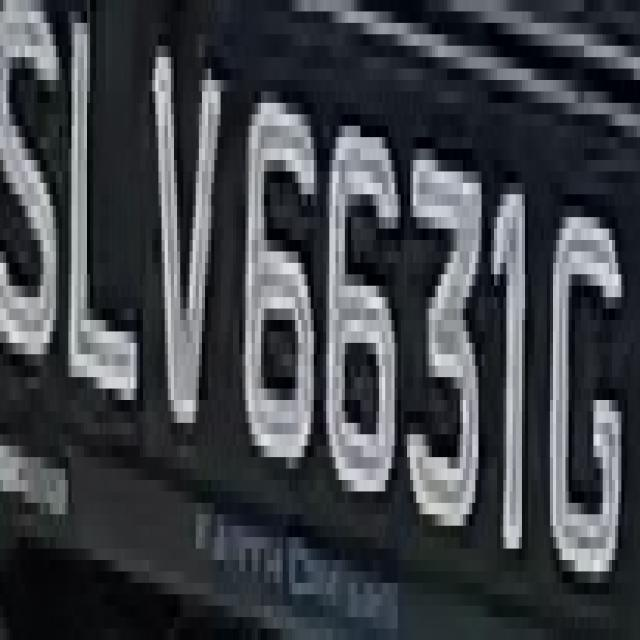1: (488, 137, 540, 606)
3: (404, 137, 494, 560)
6: (230, 68, 320, 503), (320, 69, 398, 537)
G: (544, 183, 634, 606)
L: (65, 12, 140, 434)
S: (0, 0, 59, 423)
V: (140, 23, 230, 457)
